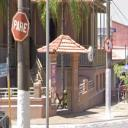NoSeguir: (104, 38, 112, 54)
Pare: (11, 11, 29, 43)
